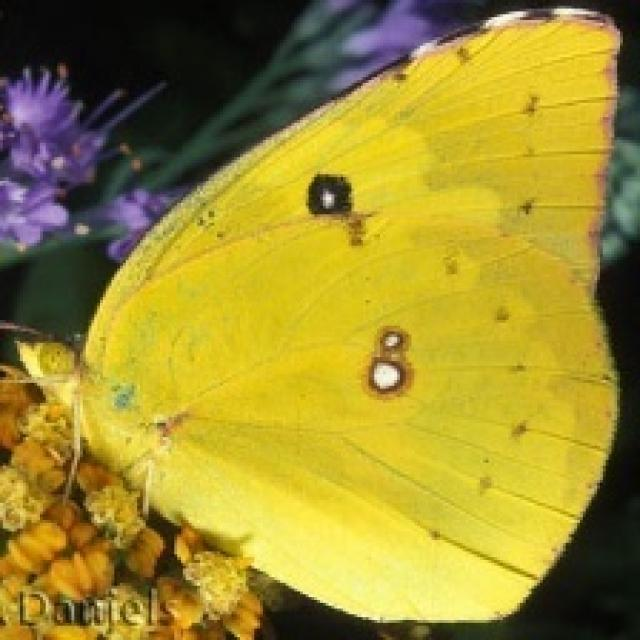butterfly: (0, 3, 623, 626)
